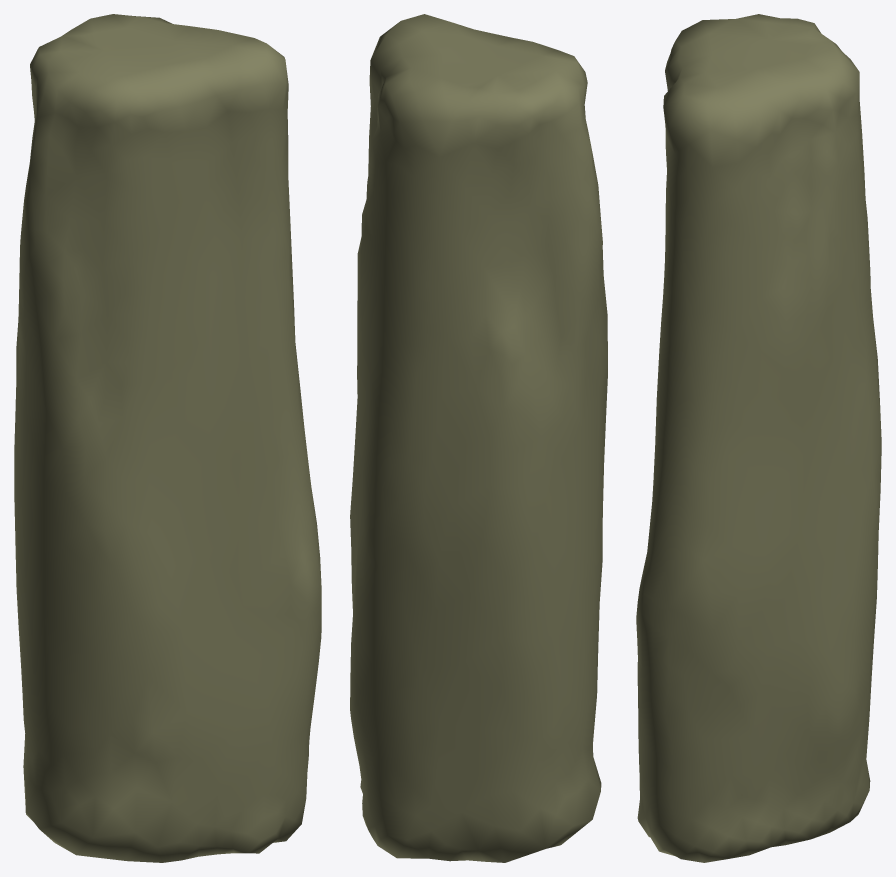
The model's file is RockPillar03.fbx.
3 renders of one model, left to right at view 1: azimuth 30°, elevation 25°; view 2: azimuth 150°, elevation 25°; view 3: azimuth 270°, elevation 25°, orthographic. The views are drawn at different scales.
Visible parts, largest first — view 1: RockPillar03; view 2: RockPillar03; view 3: RockPillar03.
Boxes of the visible parts, x1=… form: RockPillar03: x1=14, y1=14, x2=321, y2=862; RockPillar03: x1=350, y1=14, x2=607, y2=862; RockPillar03: x1=636, y1=14, x2=881, y2=862.
Bounding box in the file's own units: 0.6795 × 1.97 × 0.5761.
